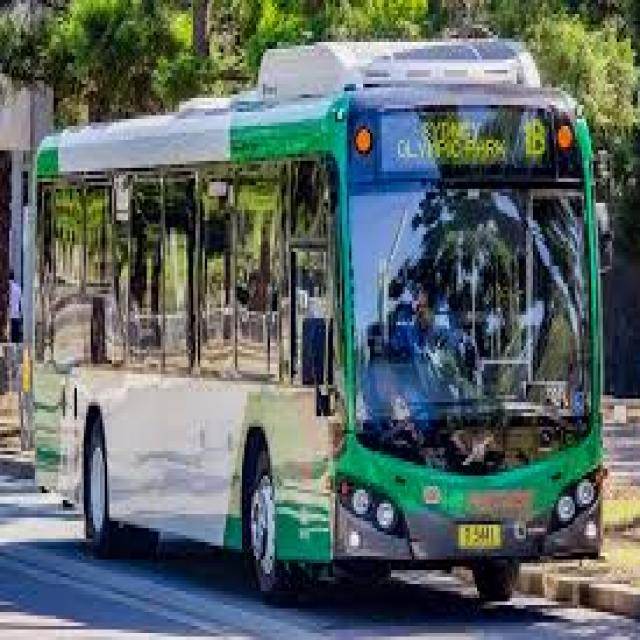Bus: (31, 121, 614, 588)
